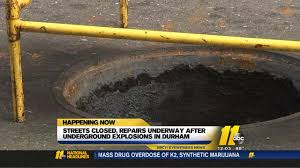Manhole-Open: (50, 21, 299, 136)
